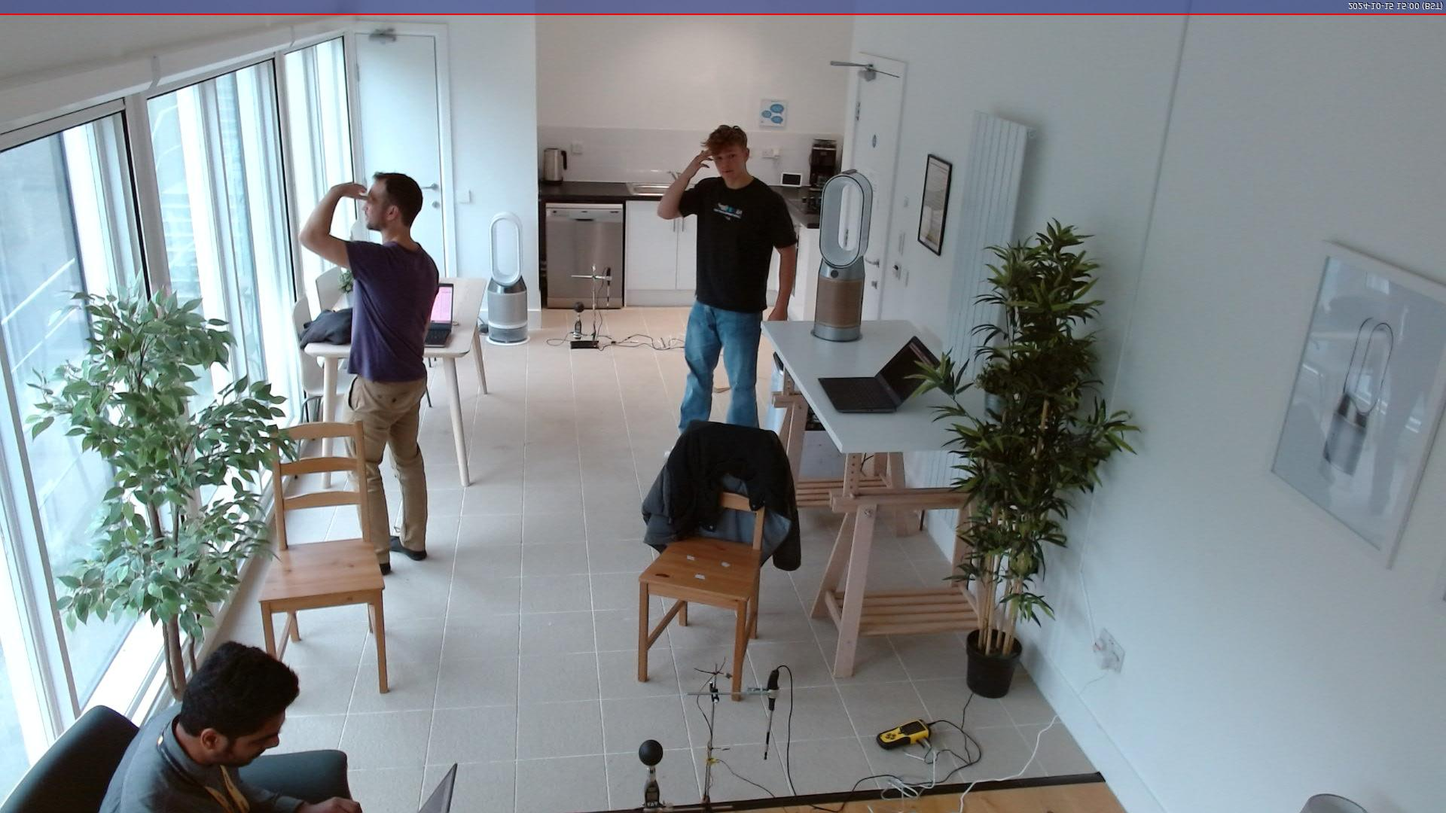long sleeve shirt: (97, 698, 307, 813)
short sleeve shirt: (674, 173, 799, 312), (342, 238, 441, 383)
trousers: (346, 368, 431, 569), (675, 300, 764, 438)
